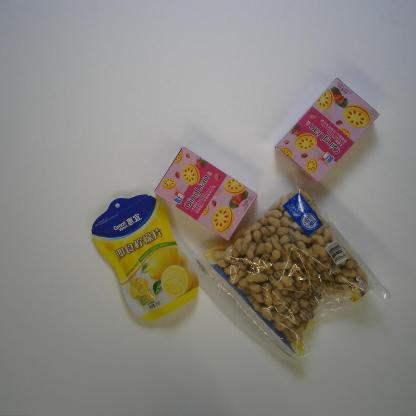Dessert: (274, 77, 380, 183), (154, 147, 258, 242)
Dried Food: (193, 175, 392, 363)
Dried Fruit: (90, 194, 200, 323)
